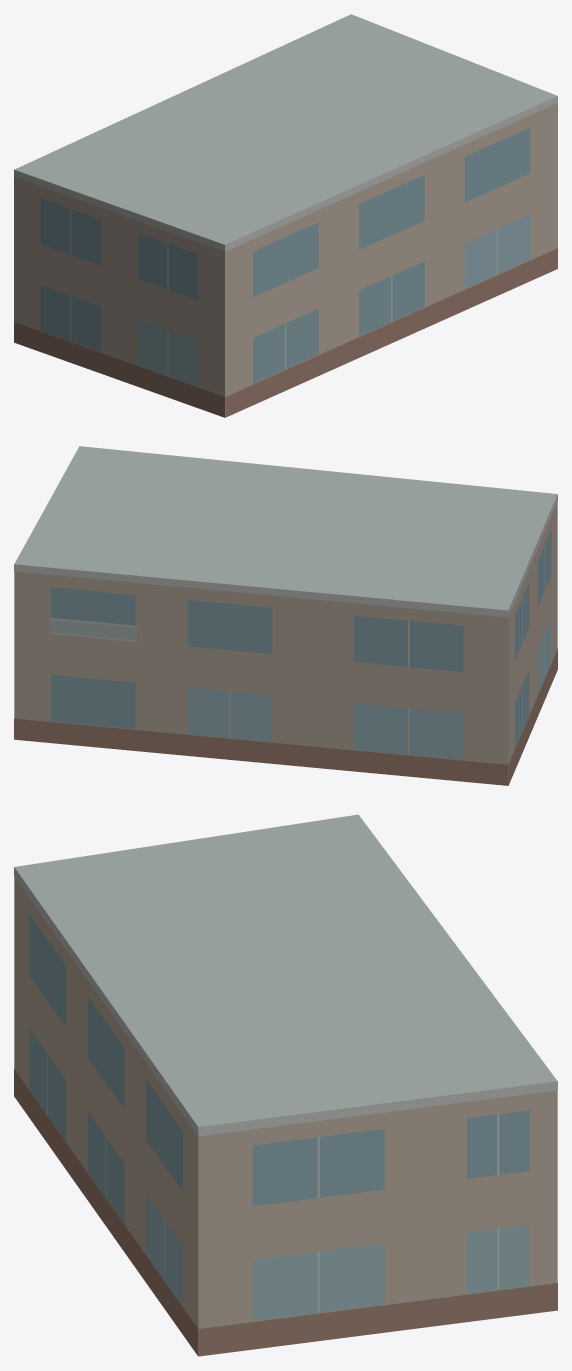
Rendered from survey-upis-32619609.glb.
The picture shows the model from 3 angles, top to bottom: view 1: azimuth 30°, elevation 25°; view 2: azimuth 150°, elevation 25°; view 3: azimuth 270°, elevation 25°; orthographic projection. The views are drawn at different scales.
Visible parts, largest first — view 1: survey-upis-32619609.tmp; view 2: survey-upis-32619609.tmp; view 3: survey-upis-32619609.tmp.
Part boxes in pixels (<box>): survey-upis-32619609.tmp: <box>14,14,557,417</box>; survey-upis-32619609.tmp: <box>14,446,557,785</box>; survey-upis-32619609.tmp: <box>14,814,557,1356</box>.
Size of the model in its own units: 17.86 by 6.1 by 13.12.
